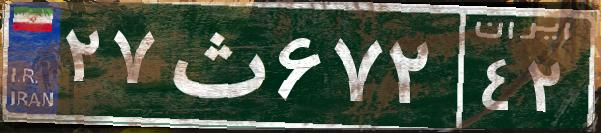2: (385, 28, 445, 110), (57, 26, 110, 107), (525, 38, 570, 115)
4: (475, 38, 525, 113)
6: (273, 28, 330, 110)
7: (330, 28, 385, 110), (110, 28, 158, 105)
ث: (158, 15, 273, 115)
